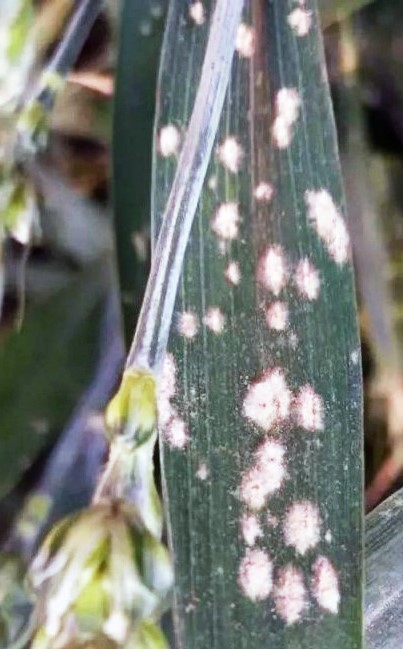Powdery Mildew: (173, 71, 380, 617)
